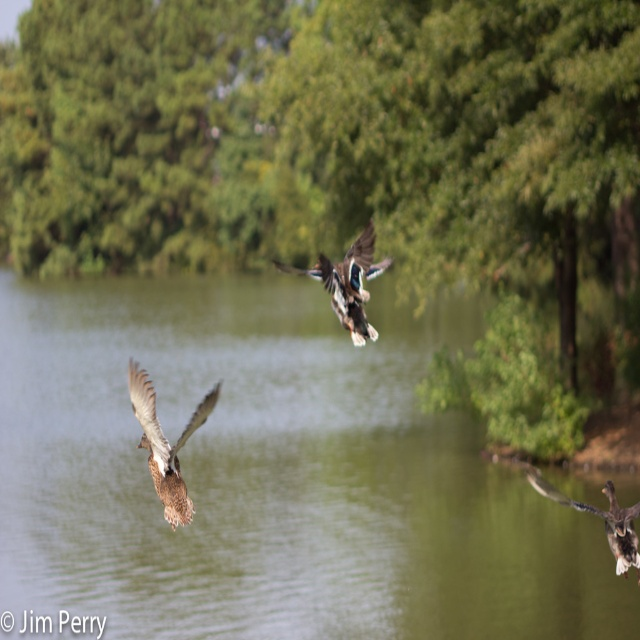Duck: (130, 354, 226, 530), (529, 483, 640, 584), (303, 245, 383, 345)
